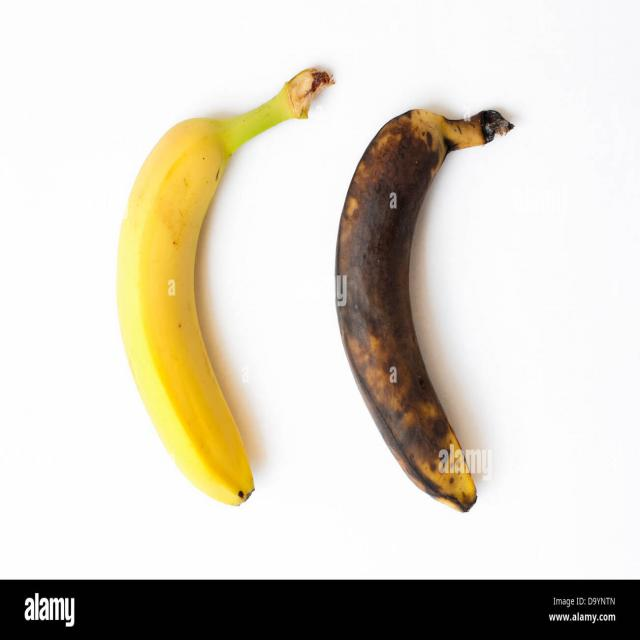Banana: (106, 59, 326, 512), (342, 96, 526, 517)
